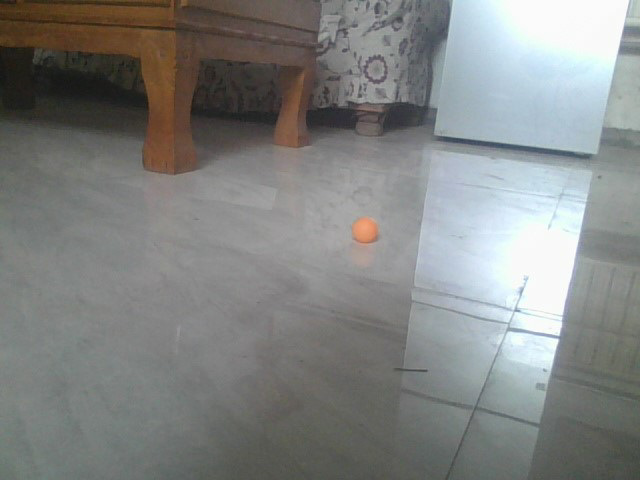ball: (355, 216, 380, 244)
